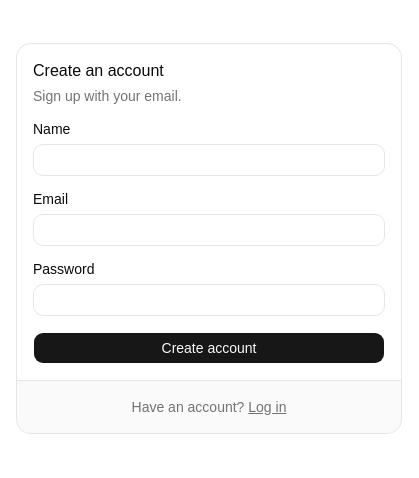
Test case: signup › shows a taken email
Step 1. Type "Jane" into the field labelled "Name" → (209, 160), box x1=33 y1=144 x2=385 y2=176
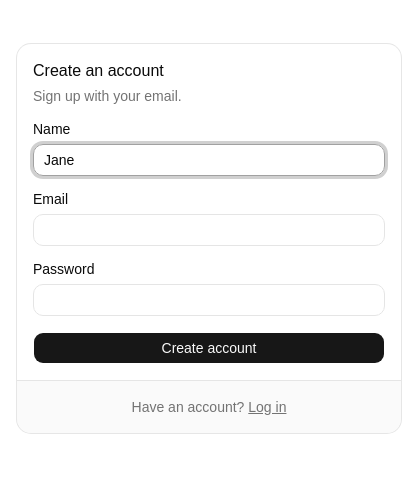
Step 2. Type "jane@example.com" into the field labelled "Email" → (209, 230), box x1=33 y1=214 x2=385 y2=246
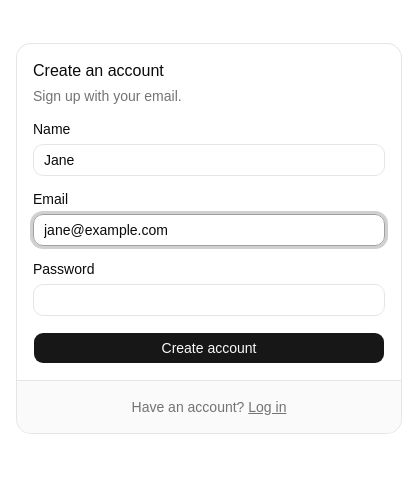
Step 3. Type "hunter22" into the password field labelled "Password" → (209, 300), box x1=33 y1=284 x2=385 y2=316
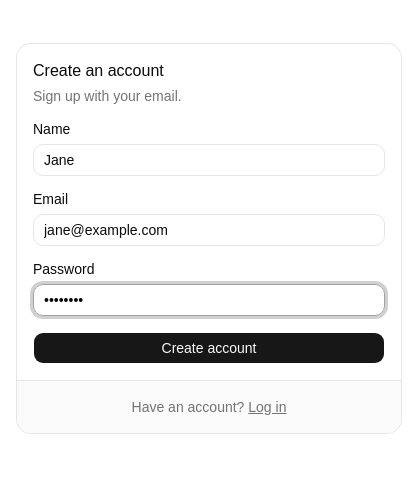
Step 4. Click the button "Create account" → (209, 348), box x1=33 y1=332 x2=385 y2=364
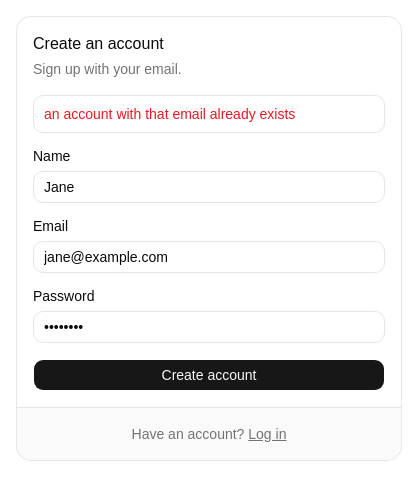
Result: the text "an account with that email already exists" is shown at x1=44 y1=106 x2=295 y2=122
